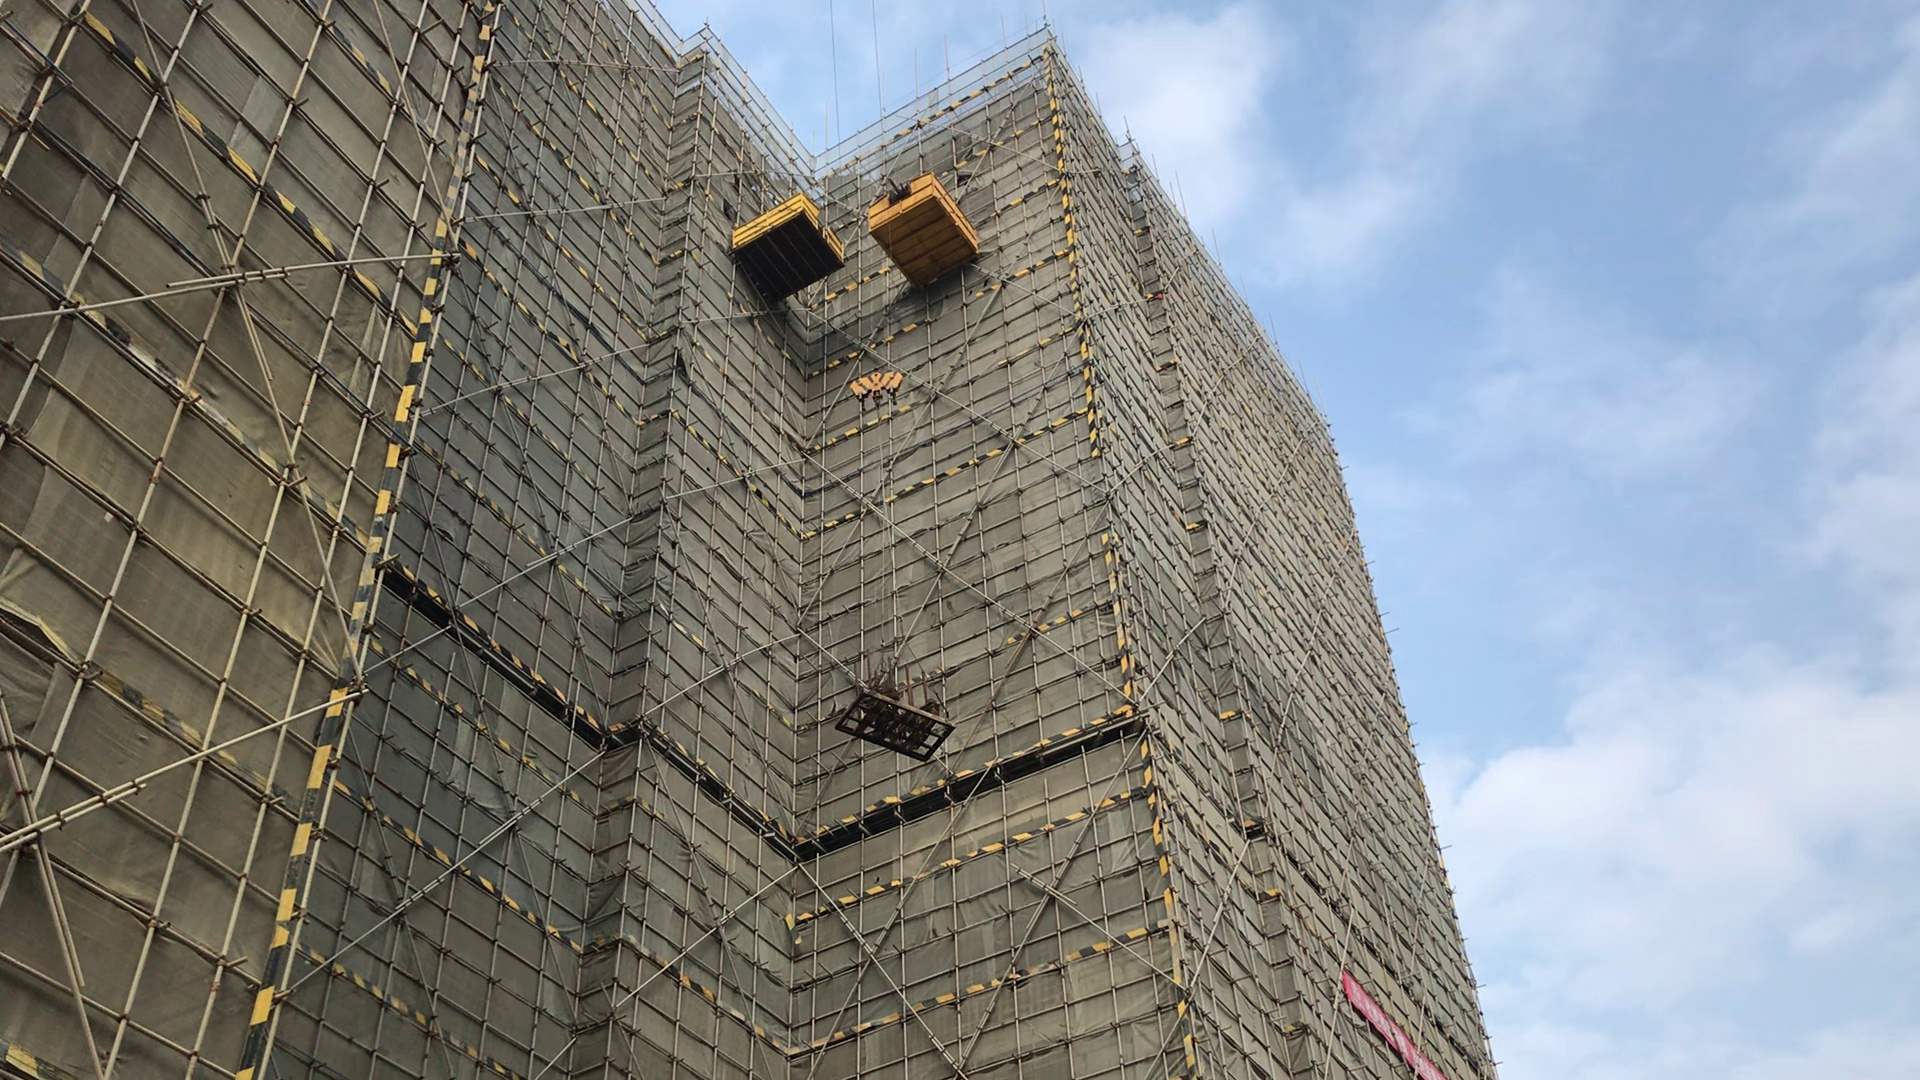hook: (847, 363, 906, 419)
